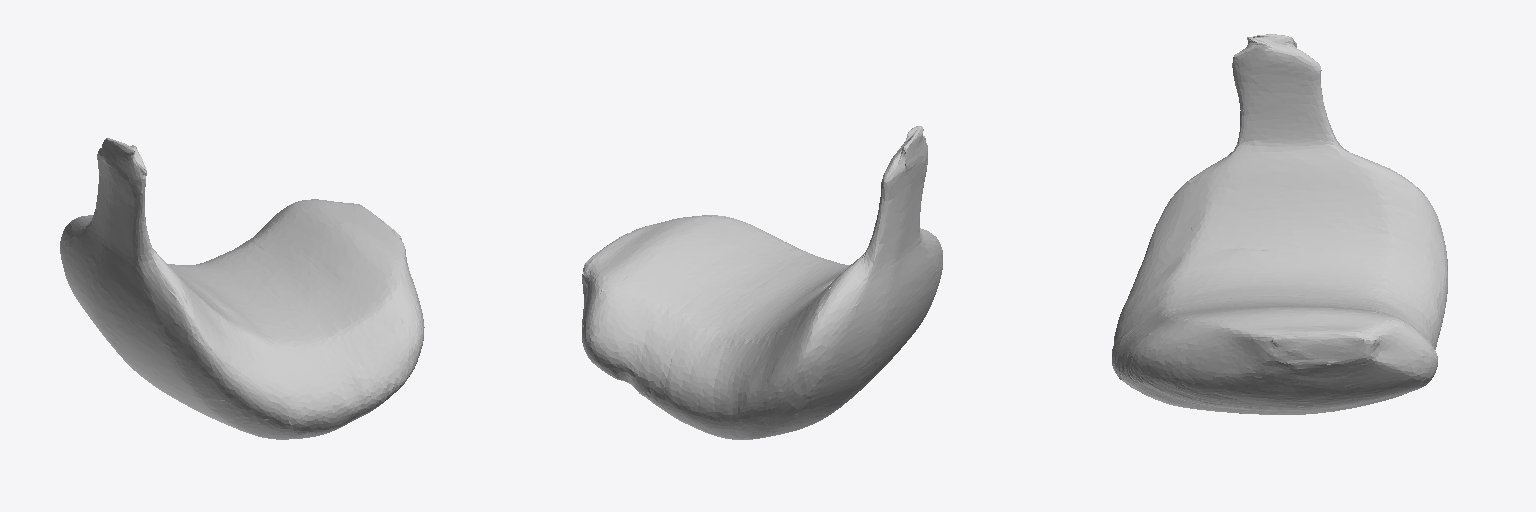
File: banana-normalized.obj
3 views of the same model, side by side, from view 1: azimuth 30°, elevation 25°; view 2: azimuth 150°, elevation 25°; view 3: azimuth 270°, elevation 25° (orthographic).
Size of the model in its own units: 1 by 1 by 1.